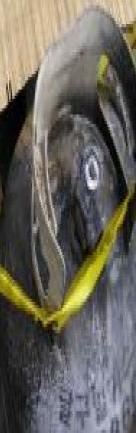cylinder: (0, 1, 136, 433)
